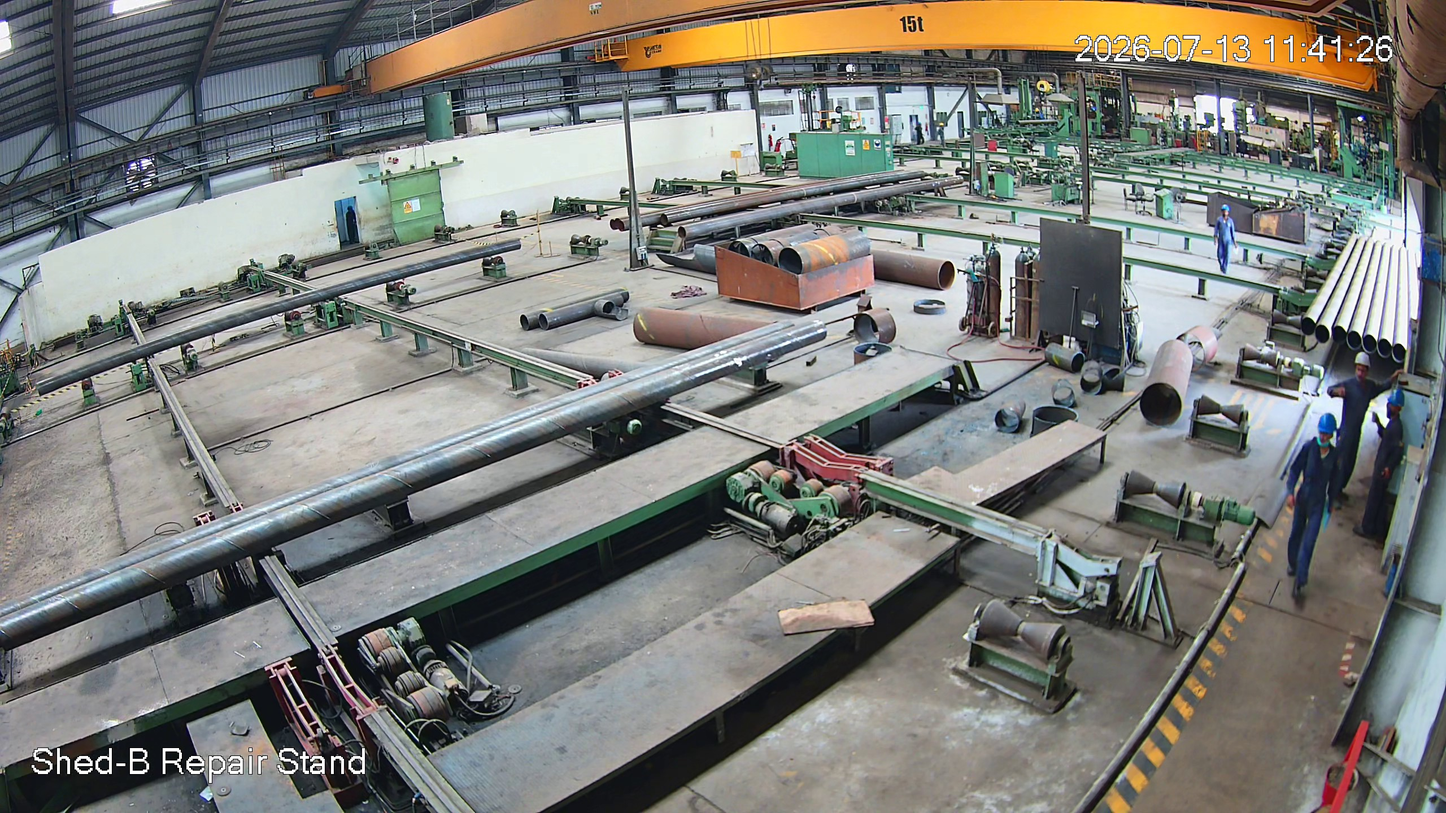Helmet: (1312, 412, 1344, 451), (1349, 350, 1382, 384), (1383, 386, 1412, 413)
Person: (1283, 413, 1343, 594), (1334, 351, 1378, 521), (1364, 390, 1410, 539)
